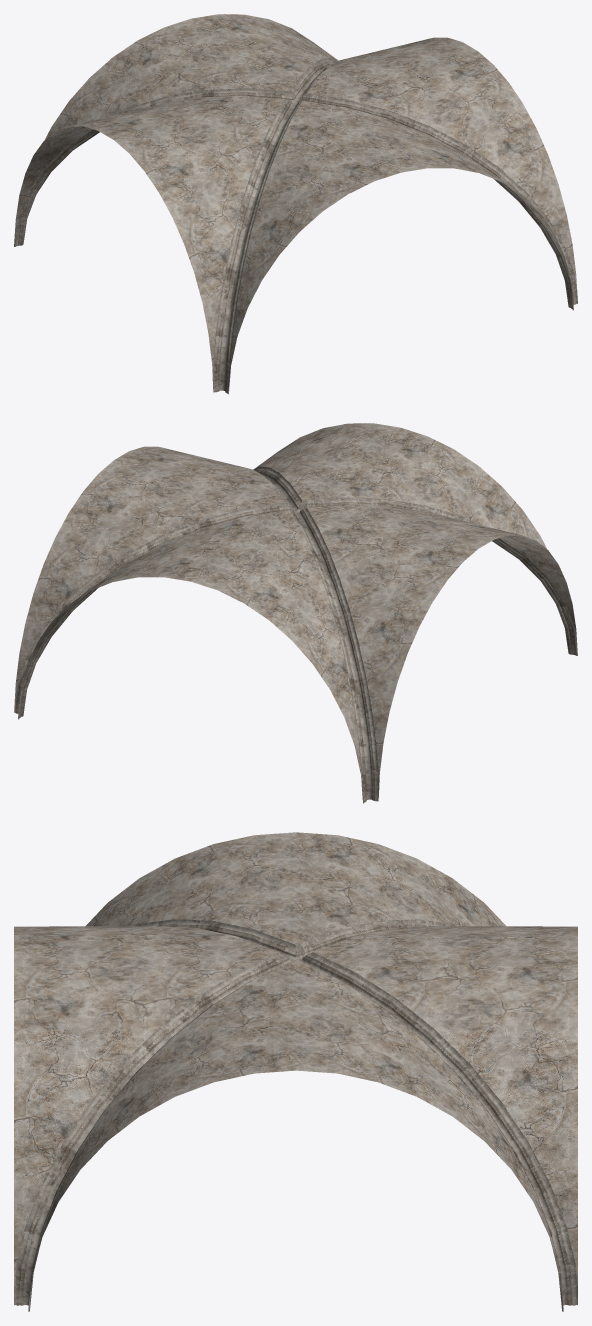
The picture shows the model from 3 angles, top to bottom: view 1: azimuth 30°, elevation 25°; view 2: azimuth 150°, elevation 25°; view 3: azimuth 270°, elevation 25°; orthographic projection. The views are drawn at different scales.
Visible parts, largest first — view 1: SM_Ceiling02a_LOD0; view 2: SM_Ceiling02a_LOD0; view 3: SM_Ceiling02a_LOD0.
Boxes of the visible parts, x1,y1,x2,y2 form: SM_Ceiling02a_LOD0: (14,14,577,394); SM_Ceiling02a_LOD0: (14,423,577,803); SM_Ceiling02a_LOD0: (14,832,577,1311).
Size of the model in its own units: 8 by 3.77 by 8.
2 materials, 2 textured.
